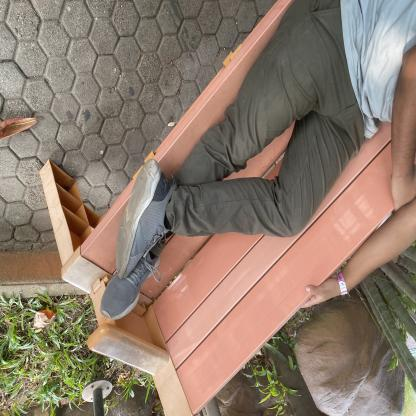leg: (103, 154, 334, 278), (87, 246, 174, 322)
